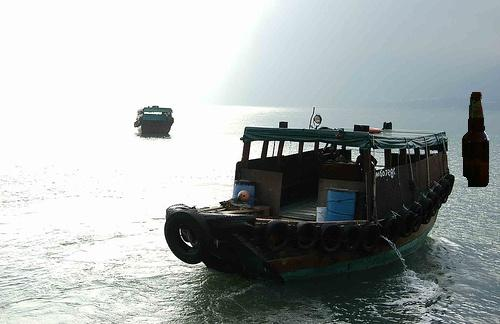tampered: (463, 93, 489, 187)
